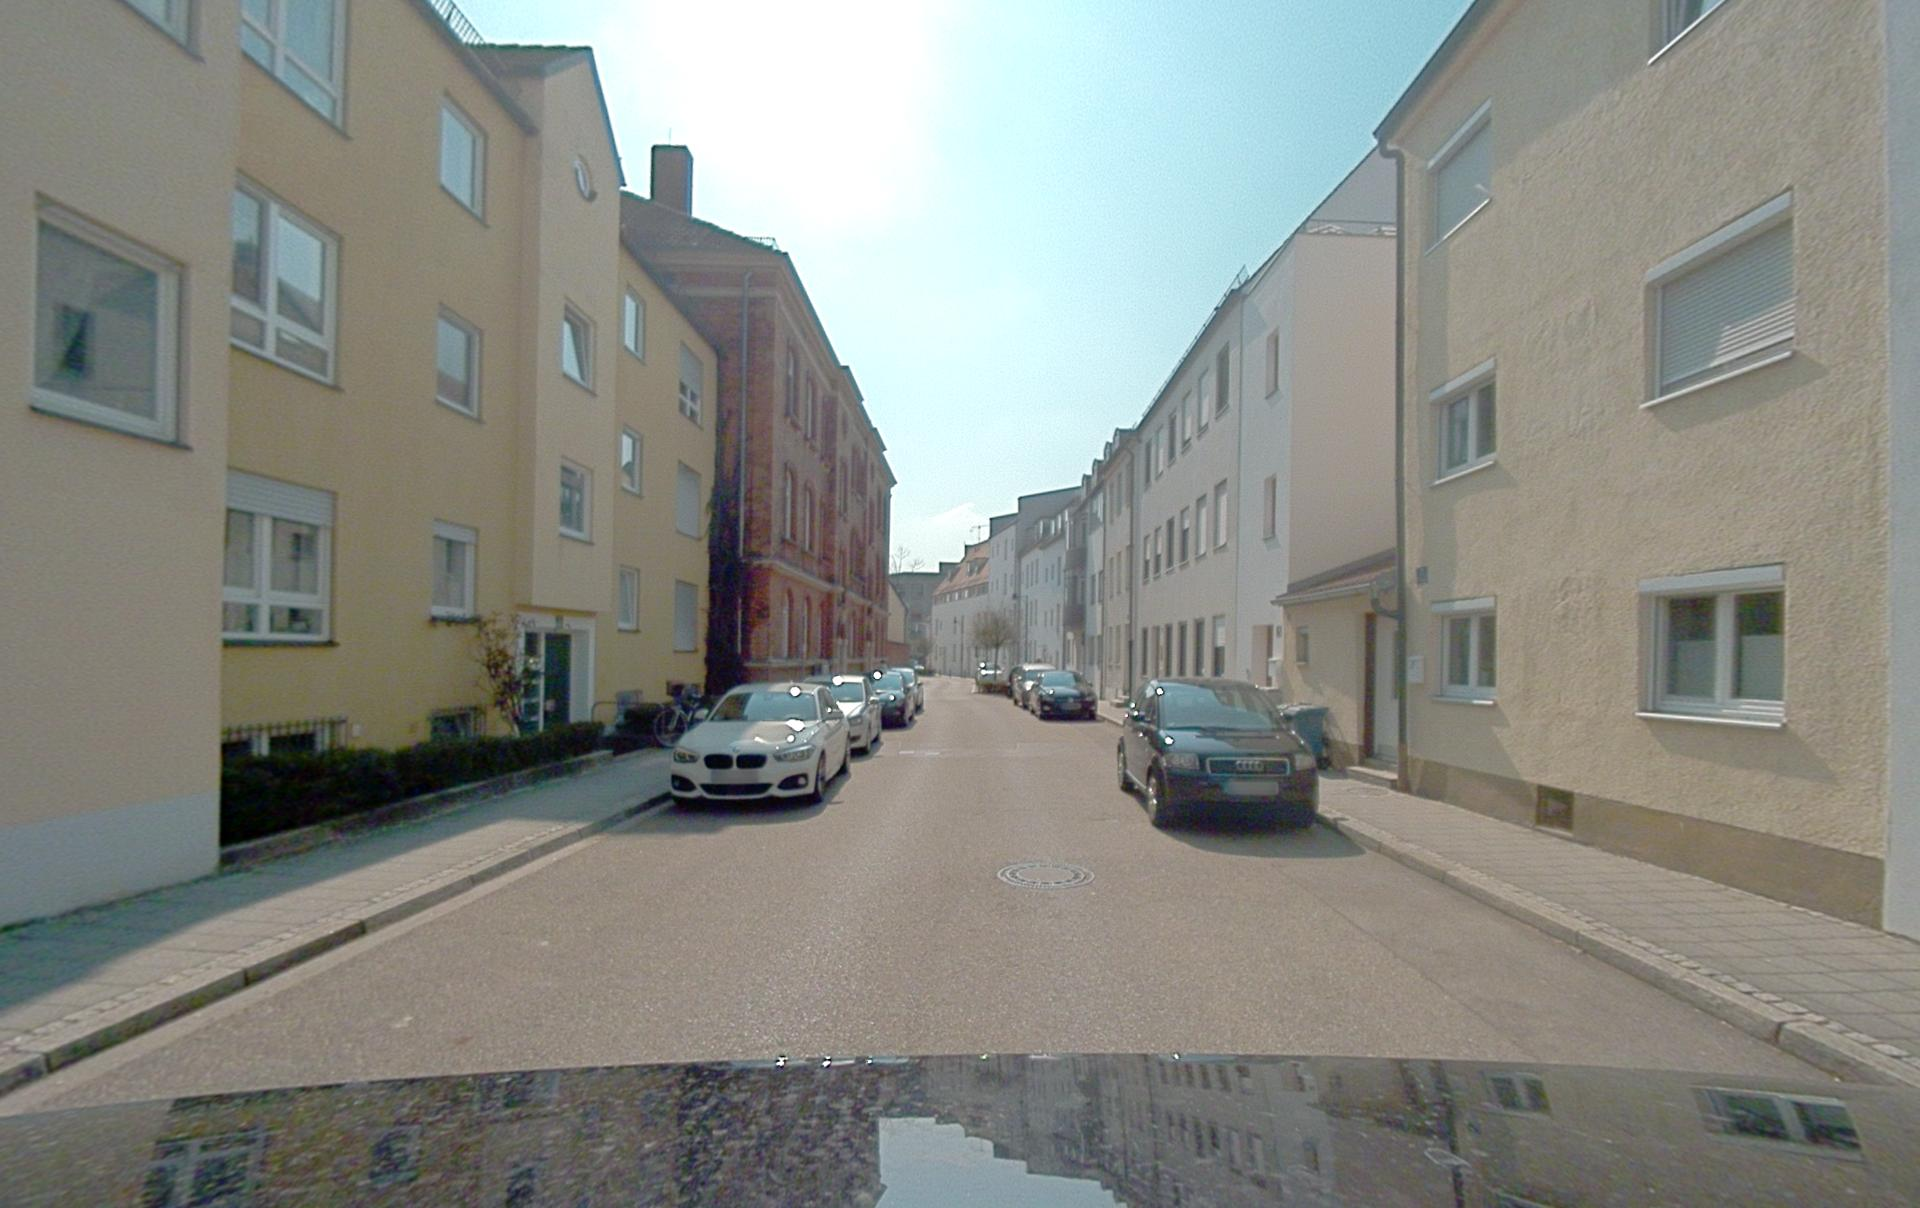car: (1117, 676, 1319, 829), (669, 681, 850, 809), (803, 674, 883, 754), (828, 674, 883, 754), (1030, 669, 1098, 720), (871, 668, 921, 728), (870, 671, 915, 728), (1010, 664, 1056, 708), (886, 668, 924, 714), (975, 662, 1009, 693)
